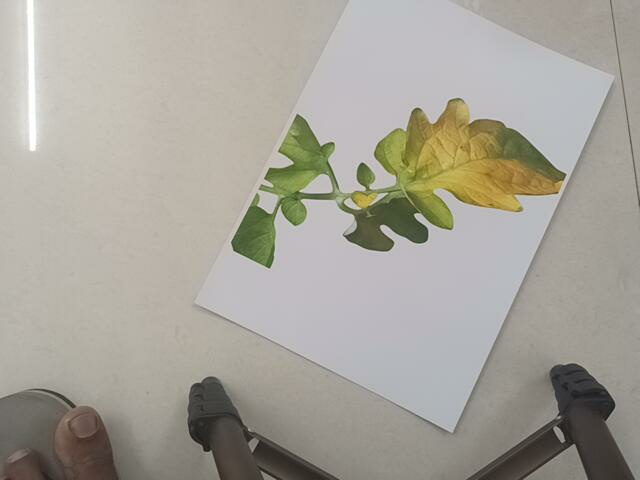Tomamto_Yellow_Disease: (251, 109, 568, 237)
